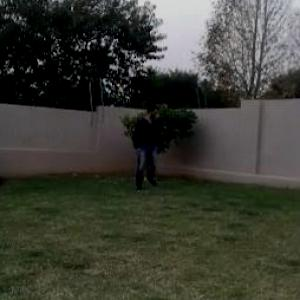follow: (131, 99, 160, 194)
